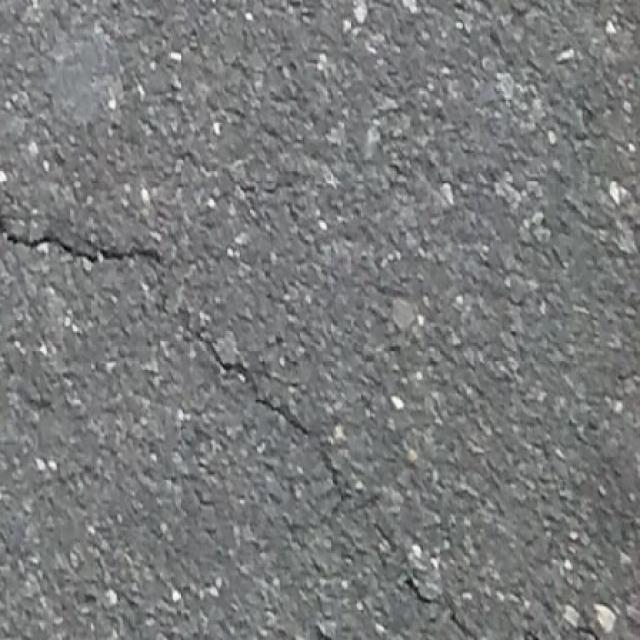Diagonal Crack: (2, 220, 479, 640)
